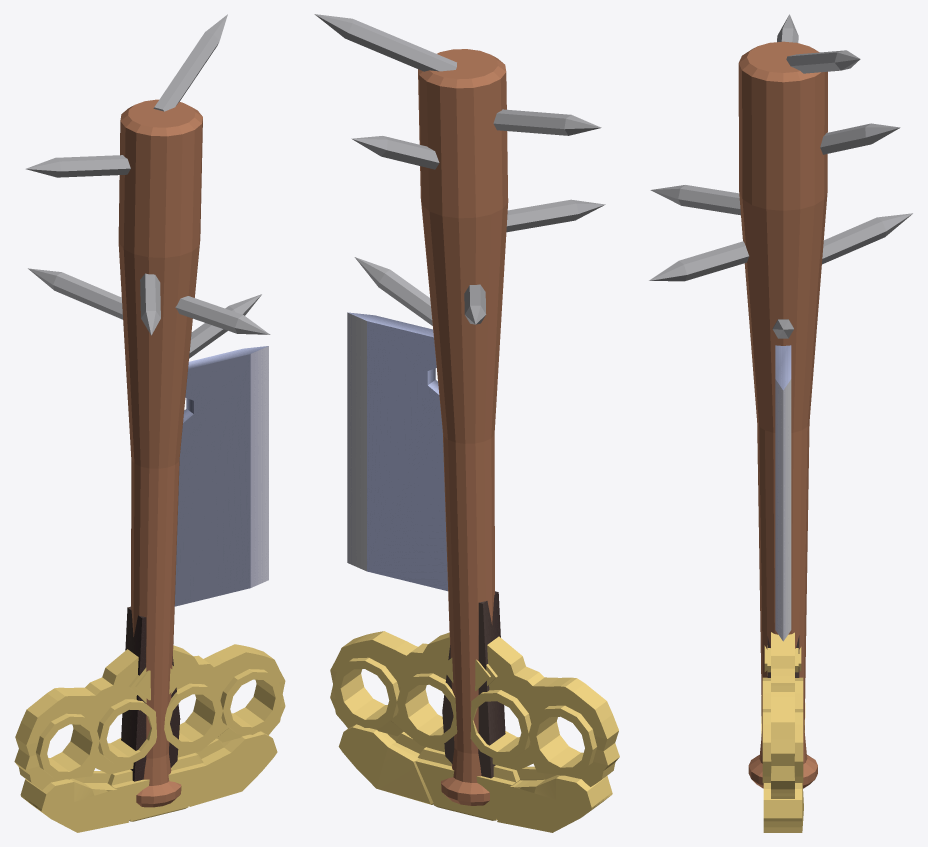
Rendered from armas.glb.
3 renders of one model, left to right at view 1: azimuth 30°, elevation 25°; view 2: azimuth 150°, elevation 25°; view 3: azimuth 270°, elevation 25°, orthographic. The views are drawn at different scales.
Visible parts, largest first — view 1: bate, puno, cuchillo; view 2: bate, puno, cuchillo; view 3: bate, puno, cuchillo.
Part boxes in pixels (x1,y1,x2,y2): bate: (26,14,270,807); puno: (14,644,285,832); cuchillo: (121,346,268,781); bate: (314,14,605,805); puno: (330,631,619,832); cuchillo: (347,312,505,778); bate: (649,14,912,788); puno: (761,632,805,832); cuchillo: (767,345,799,677).
Bounding box in the file's own units: 0.42 × 1.14 × 0.3462.
4 materials, 2 textured.
